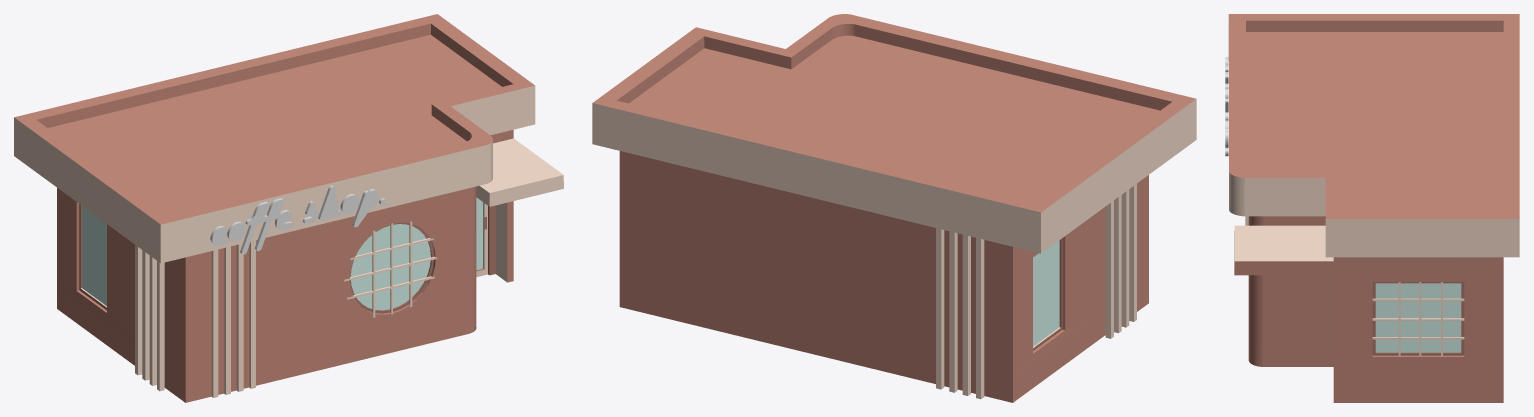
The model's file is coffe_shop1.fbx.
The picture shows the model from 3 angles, left to right: view 1: azimuth 30°, elevation 25°; view 2: azimuth 150°, elevation 25°; view 3: azimuth 270°, elevation 25°; orthographic projection. The views are drawn at different scales.
Visible parts, largest first — view 1: coffe_shop; view 2: coffe_shop; view 3: coffe_shop.
Boxes of the visible parts, box(x1,y1,x2,y2) form: coffe_shop: box(14, 14, 563, 402); coffe_shop: box(592, 14, 1196, 402); coffe_shop: box(1225, 14, 1519, 402).
Bounding box in the file's own units: 879 × 386 × 534.
